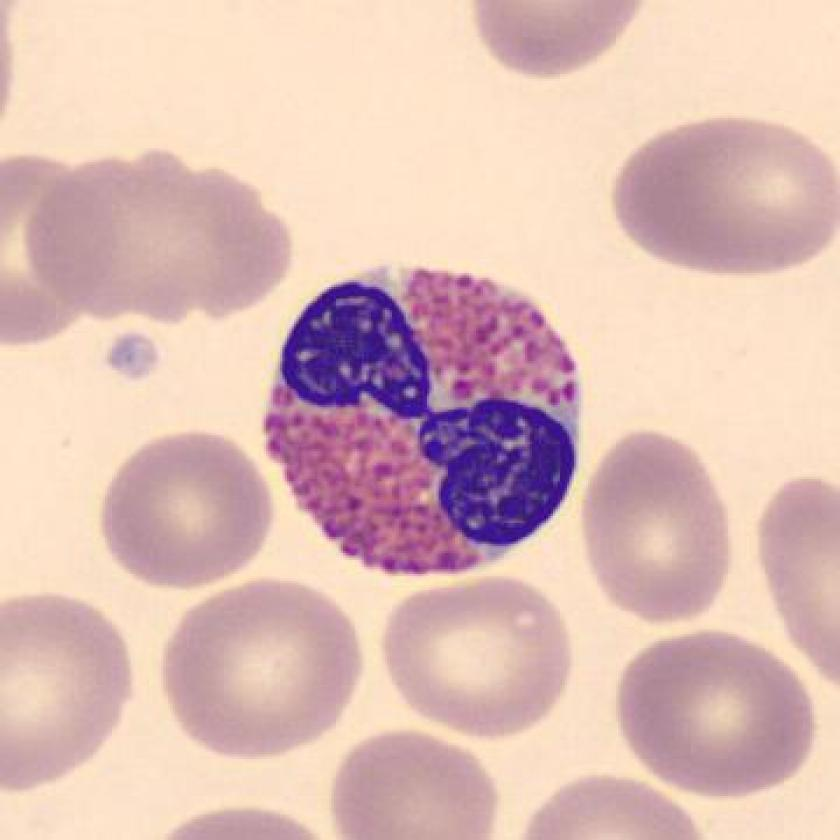eosinophil: (251, 246, 596, 603)
